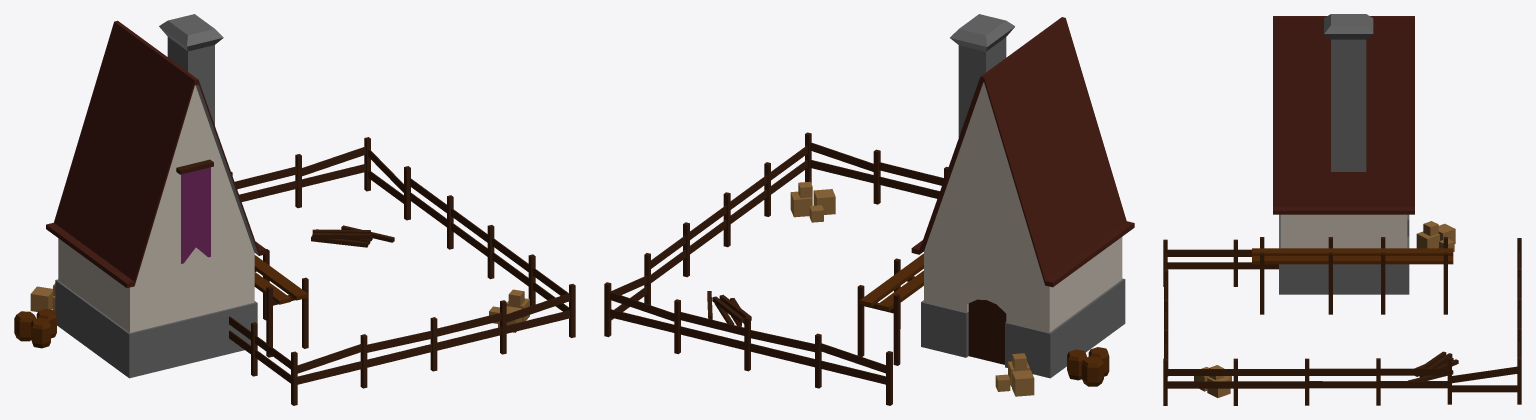
File: FarmBuildPhase3v1.fbx
3 views of the same model, side by side, from view 1: azimuth 30°, elevation 25°; view 2: azimuth 150°, elevation 25°; view 3: azimuth 270°, elevation 25° (orthographic). The views are drawn at different scales.
Parts seen in each view (by area): view 1: Plane.1017; view 2: Plane.1017; view 3: Plane.1017.
Part boxes in pixels (x1,y1,x2,y2): Plane.1017: (14, 14, 575, 405); Plane.1017: (604, 14, 1134, 405); Plane.1017: (1163, 14, 1521, 405).
Bounding box in the file's own units: 219 × 150 × 182.
